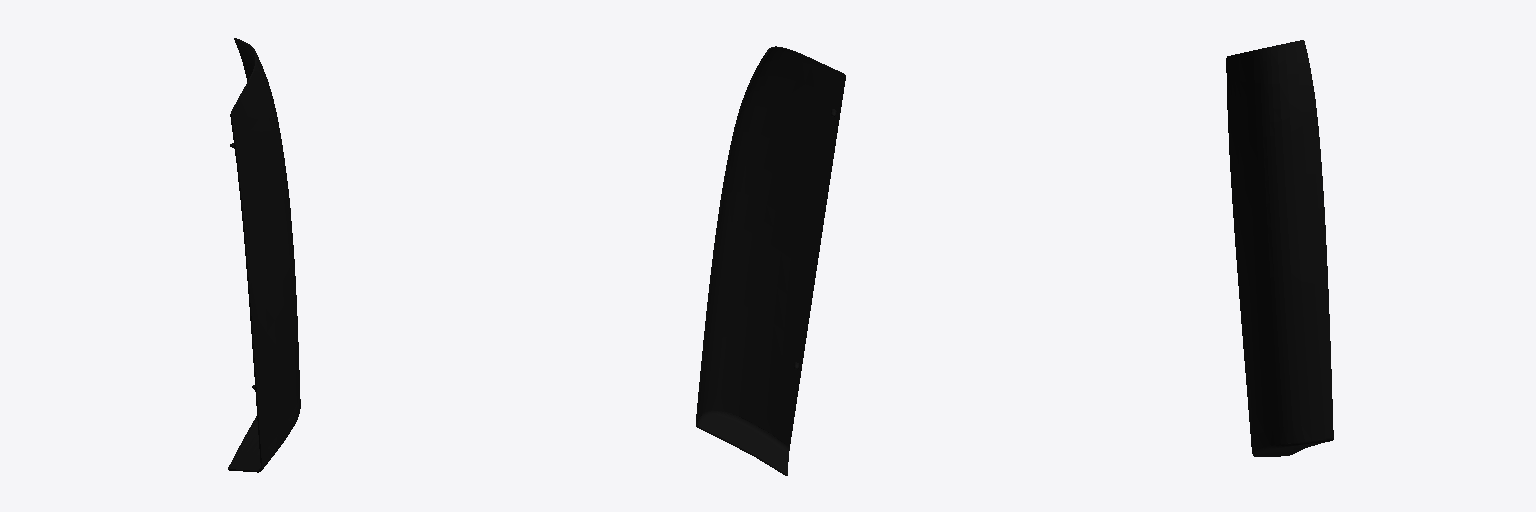
The model's file is Side_cover_top_l.obj.
3 renders of one model, left to right at view 1: azimuth 30°, elevation 25°; view 2: azimuth 150°, elevation 25°; view 3: azimuth 270°, elevation 25°, orthographic.
Visible parts, largest first — view 1: 4 side cover L top; view 2: 4 side cover L top; view 3: 4 side cover L top.
Part boxes in pixels (bbox=[...]): 4 side cover L top: bbox=[228, 38, 300, 472]; 4 side cover L top: bbox=[696, 46, 845, 475]; 4 side cover L top: bbox=[1226, 40, 1333, 456].
Size of the model in its own units: 22.92 by 89.66 by 20.62.